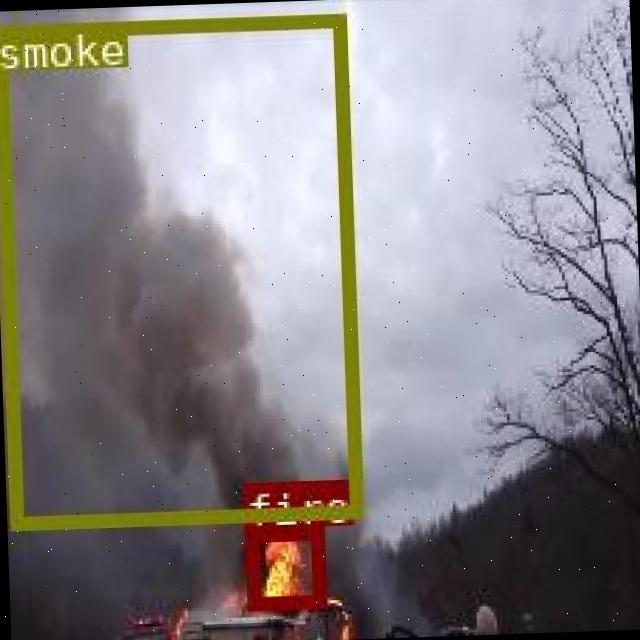fire: (242, 524, 323, 609)
smoke: (0, 12, 360, 526)
